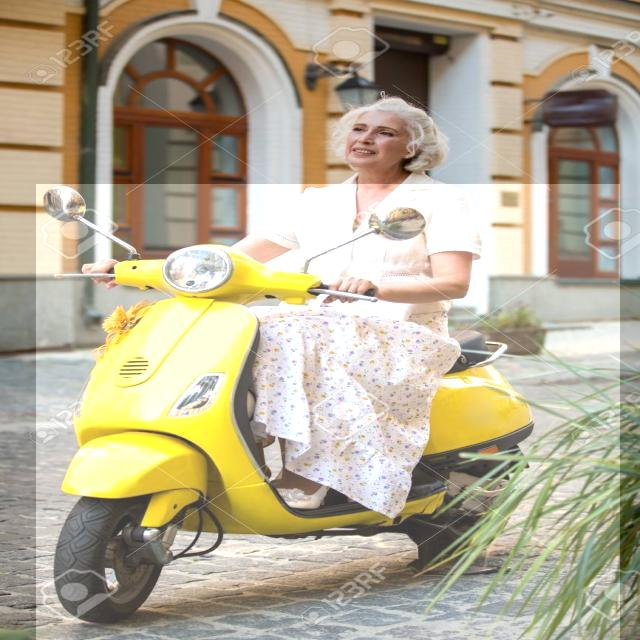Bike: (36, 184, 620, 640)
